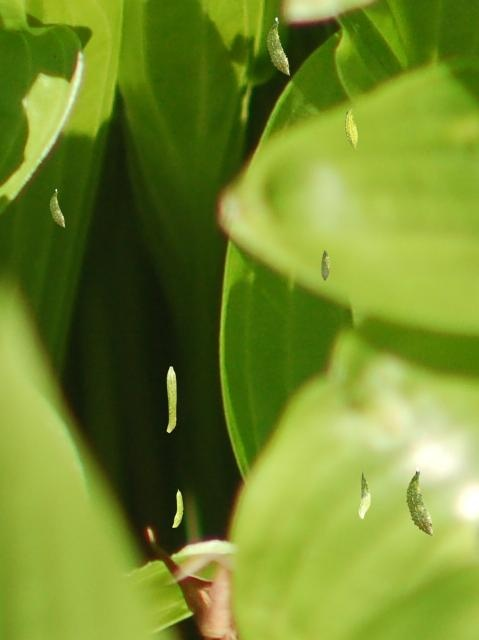ampalaya: (405, 467, 433, 536), (266, 17, 290, 75), (166, 366, 177, 433), (344, 104, 358, 150), (49, 188, 65, 227), (358, 470, 370, 519), (171, 488, 183, 528), (320, 249, 330, 281)
